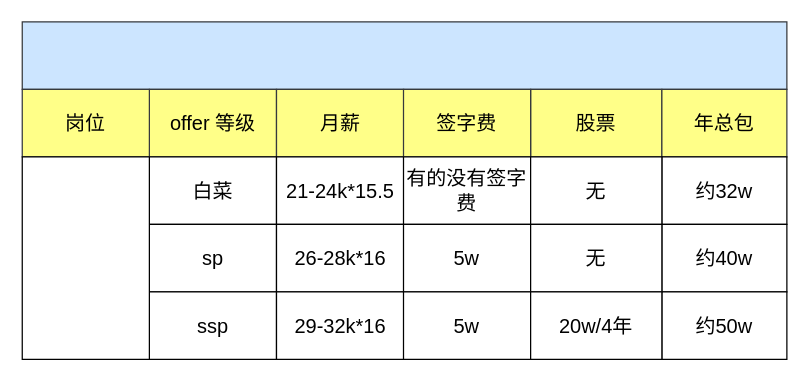
Some shapes in this 809 by 381 pixel diagram are drawn without their labels. Each missing label, with the centre of its shape:
"2022届美团薪资" belongs at [404,55].
"技术岗" belongs at [85,257].
